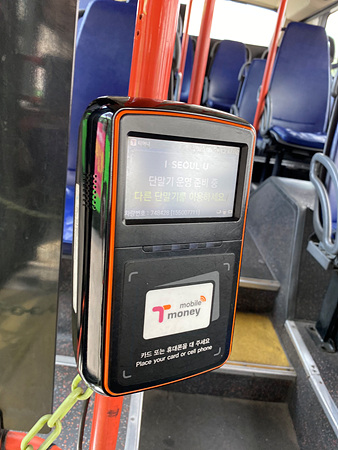terminal: (98, 106, 237, 389)
